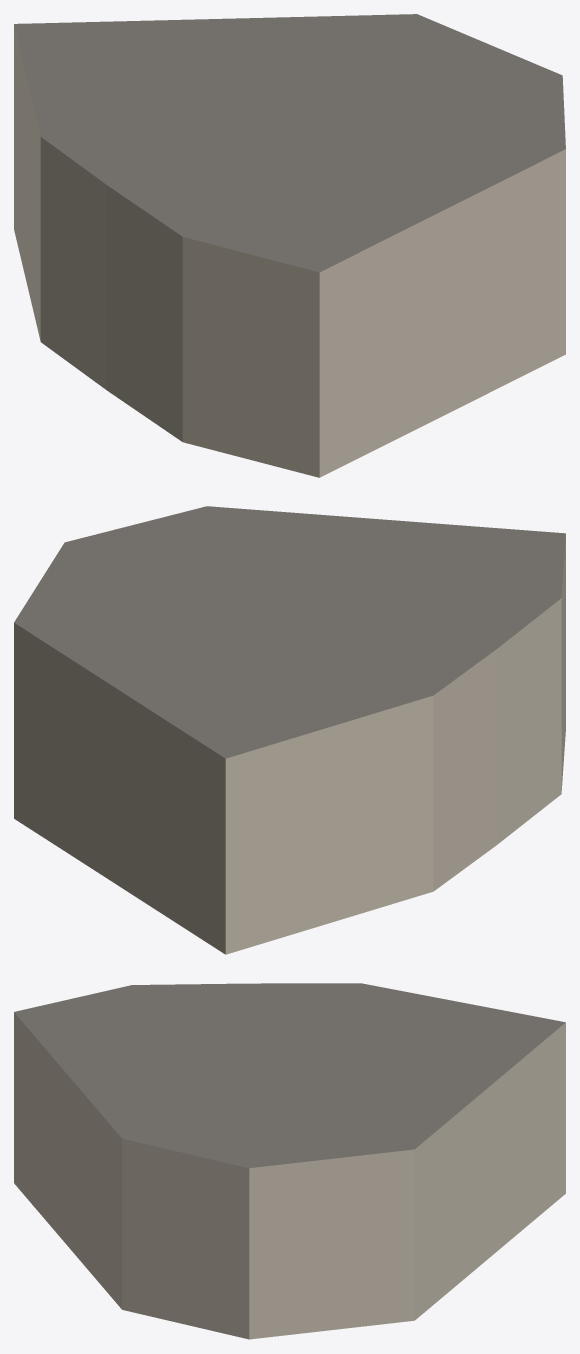
The picture shows the model from 3 angles, top to bottom: view 1: azimuth 30°, elevation 25°; view 2: azimuth 150°, elevation 25°; view 3: azimuth 270°, elevation 25°; orthographic projection. The views are drawn at different scales.
Visible parts, largest first — view 1: HP-w373833619; view 2: HP-w373833619; view 3: HP-w373833619.
Boxes of the visible parts, bbox=[...] form: HP-w373833619: bbox=[14, 14, 565, 477]; HP-w373833619: bbox=[14, 506, 565, 954]; HP-w373833619: bbox=[14, 983, 565, 1339].
Size of the model in its own units: 41.65 by 18 by 52.58.
